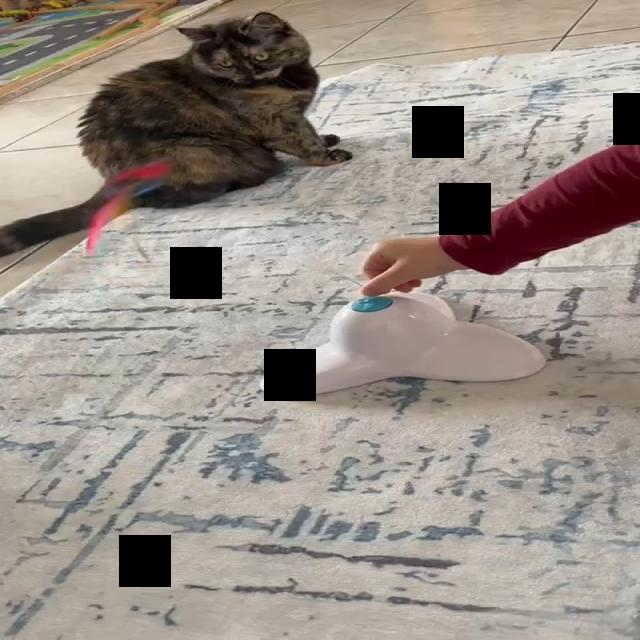authorized: (0, 10, 352, 256)
